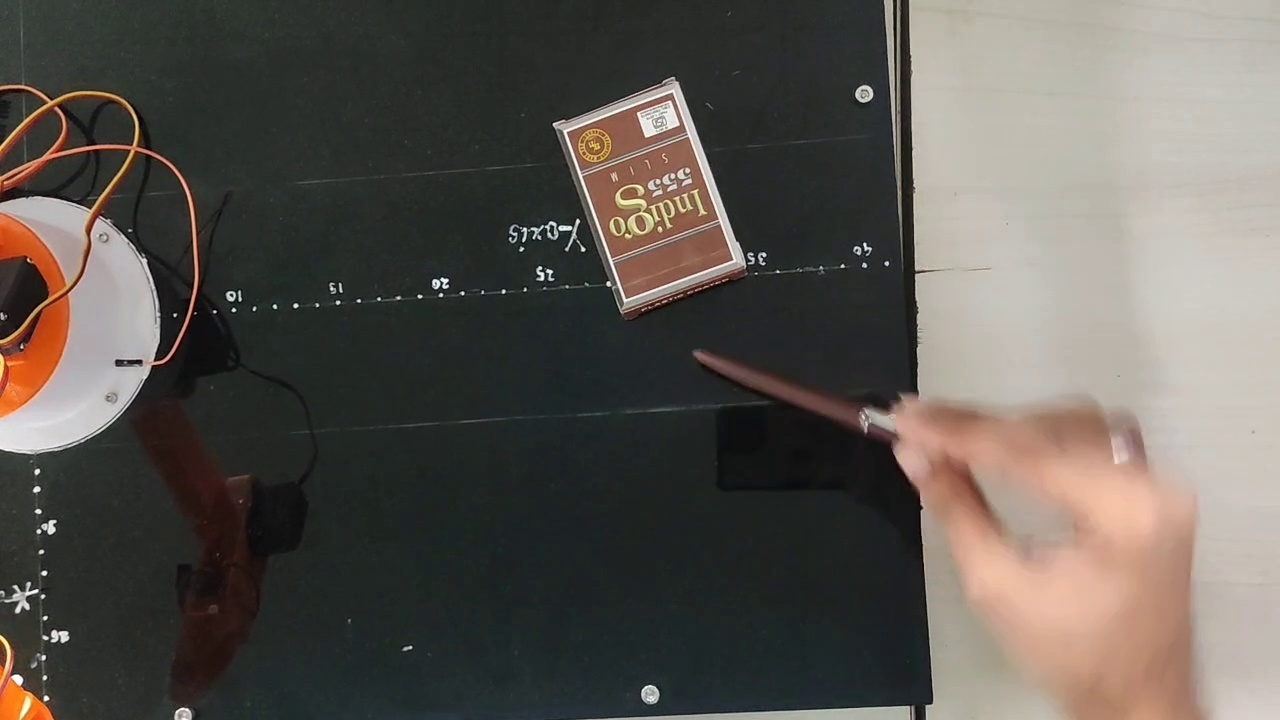BEX: (563, 91, 736, 301)
